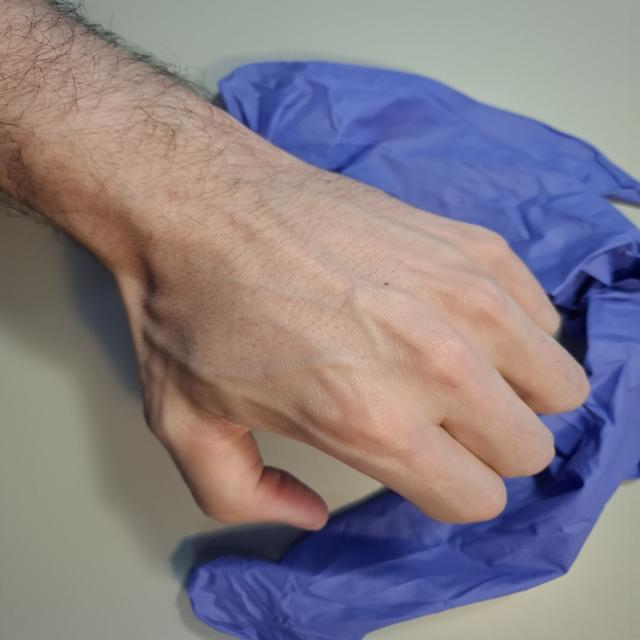glove_off: (87, 144, 595, 536)
